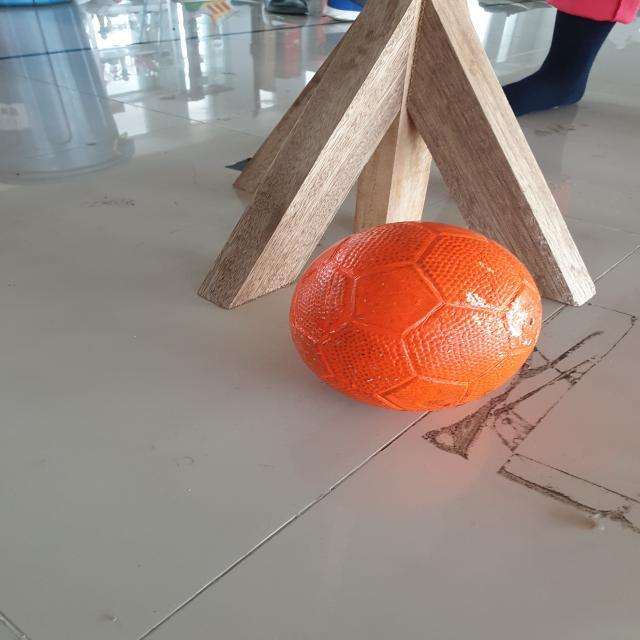bola: (279, 208, 553, 422)
